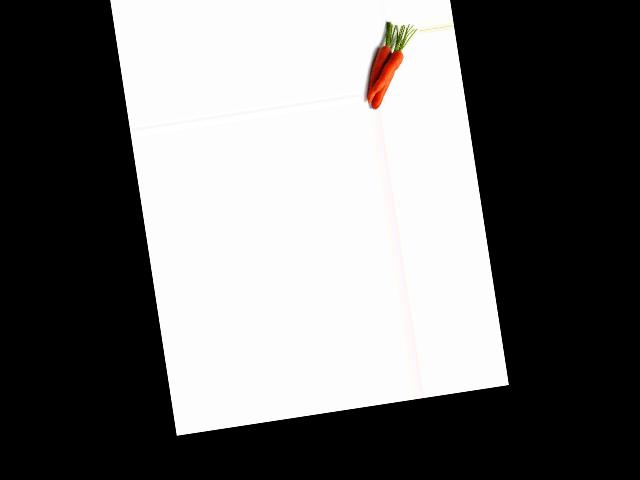carrot: (356, 35, 398, 106)
